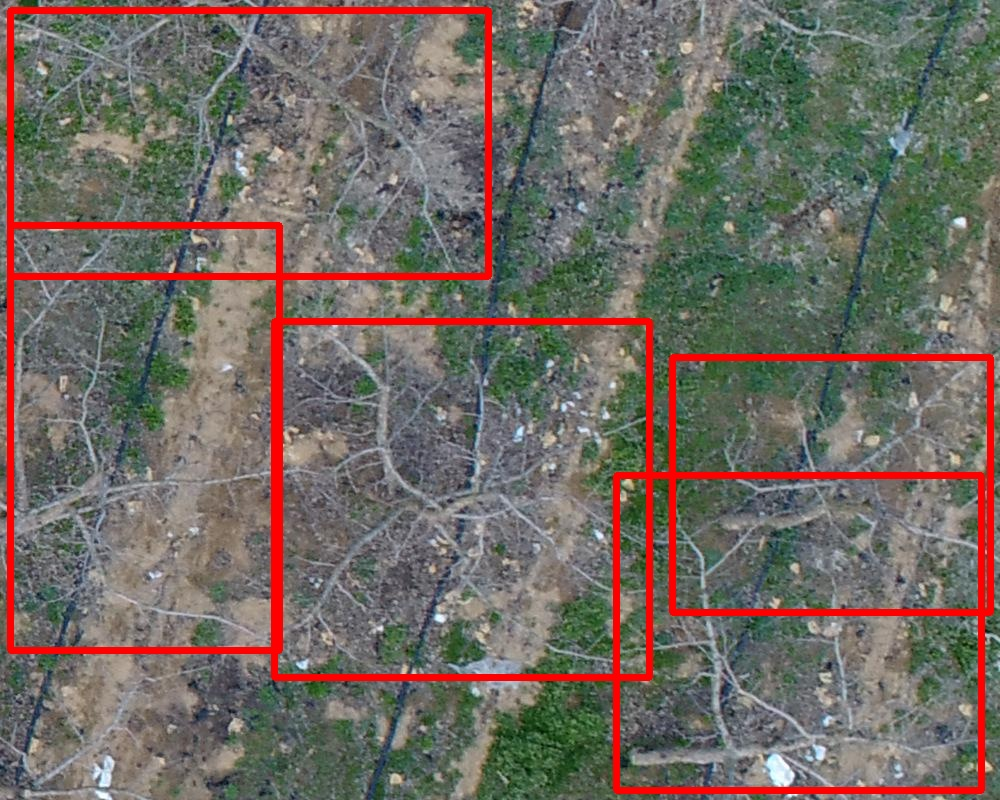apple: (274, 321, 649, 677), (10, 10, 488, 276), (616, 475, 981, 790), (10, 225, 279, 650), (672, 357, 990, 612)
